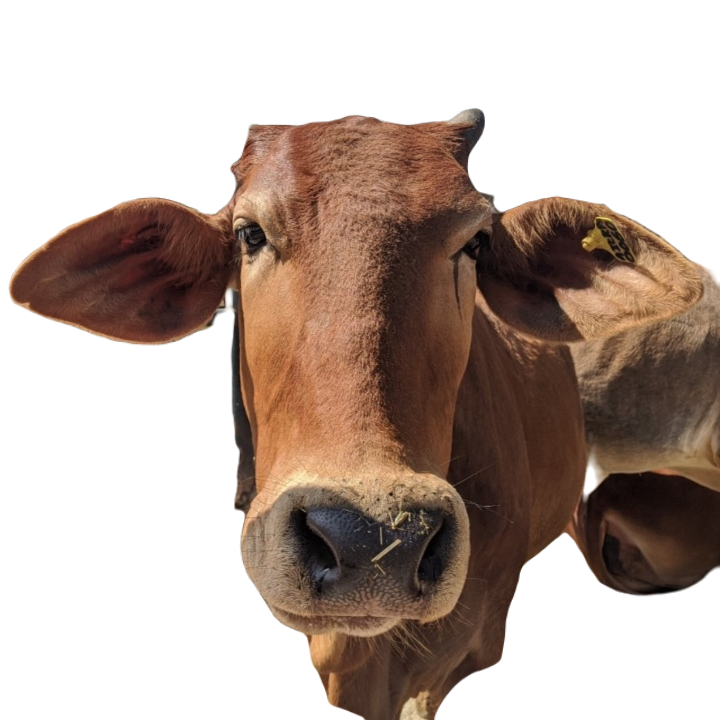Cow: (9, 108, 698, 719)
